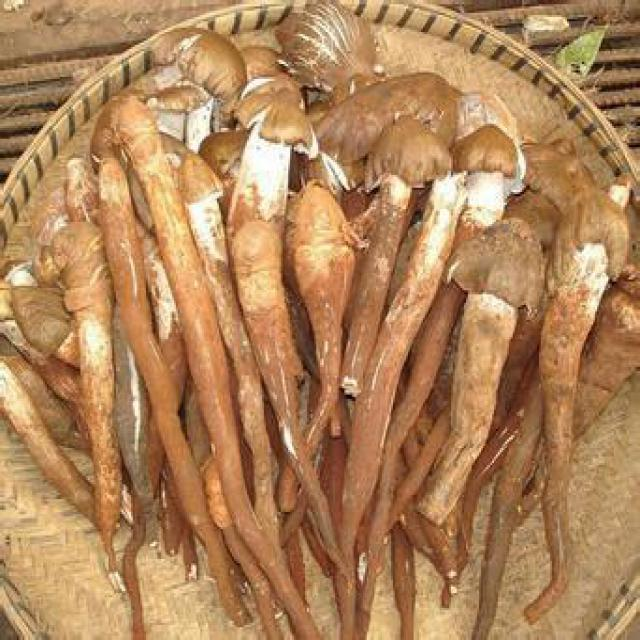Collybia albuminosa: (19, 0, 623, 625)
